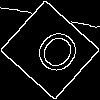O: (25, 25, 85, 86)
